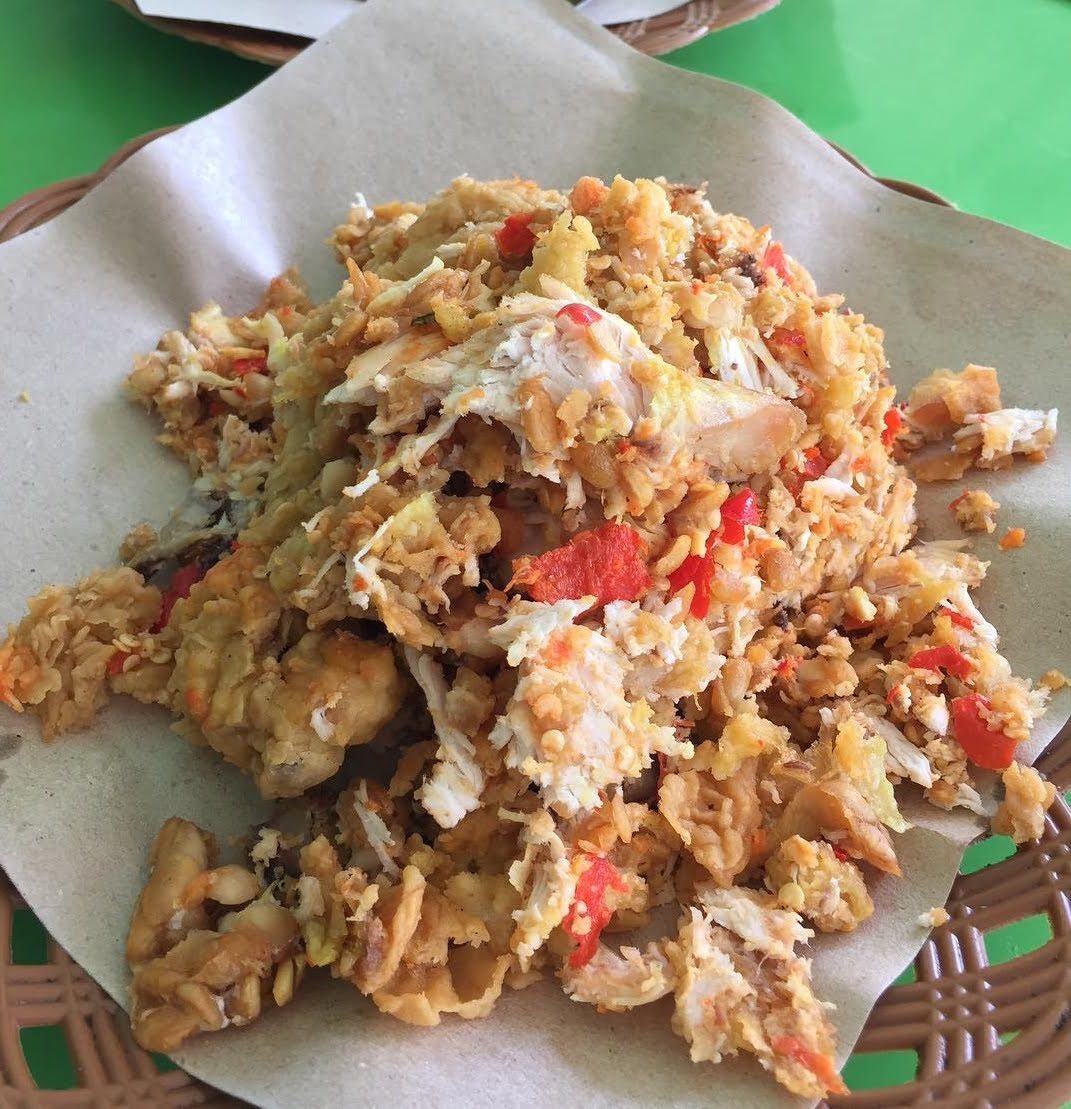ayam_geprek: (113, 144, 997, 1035)
